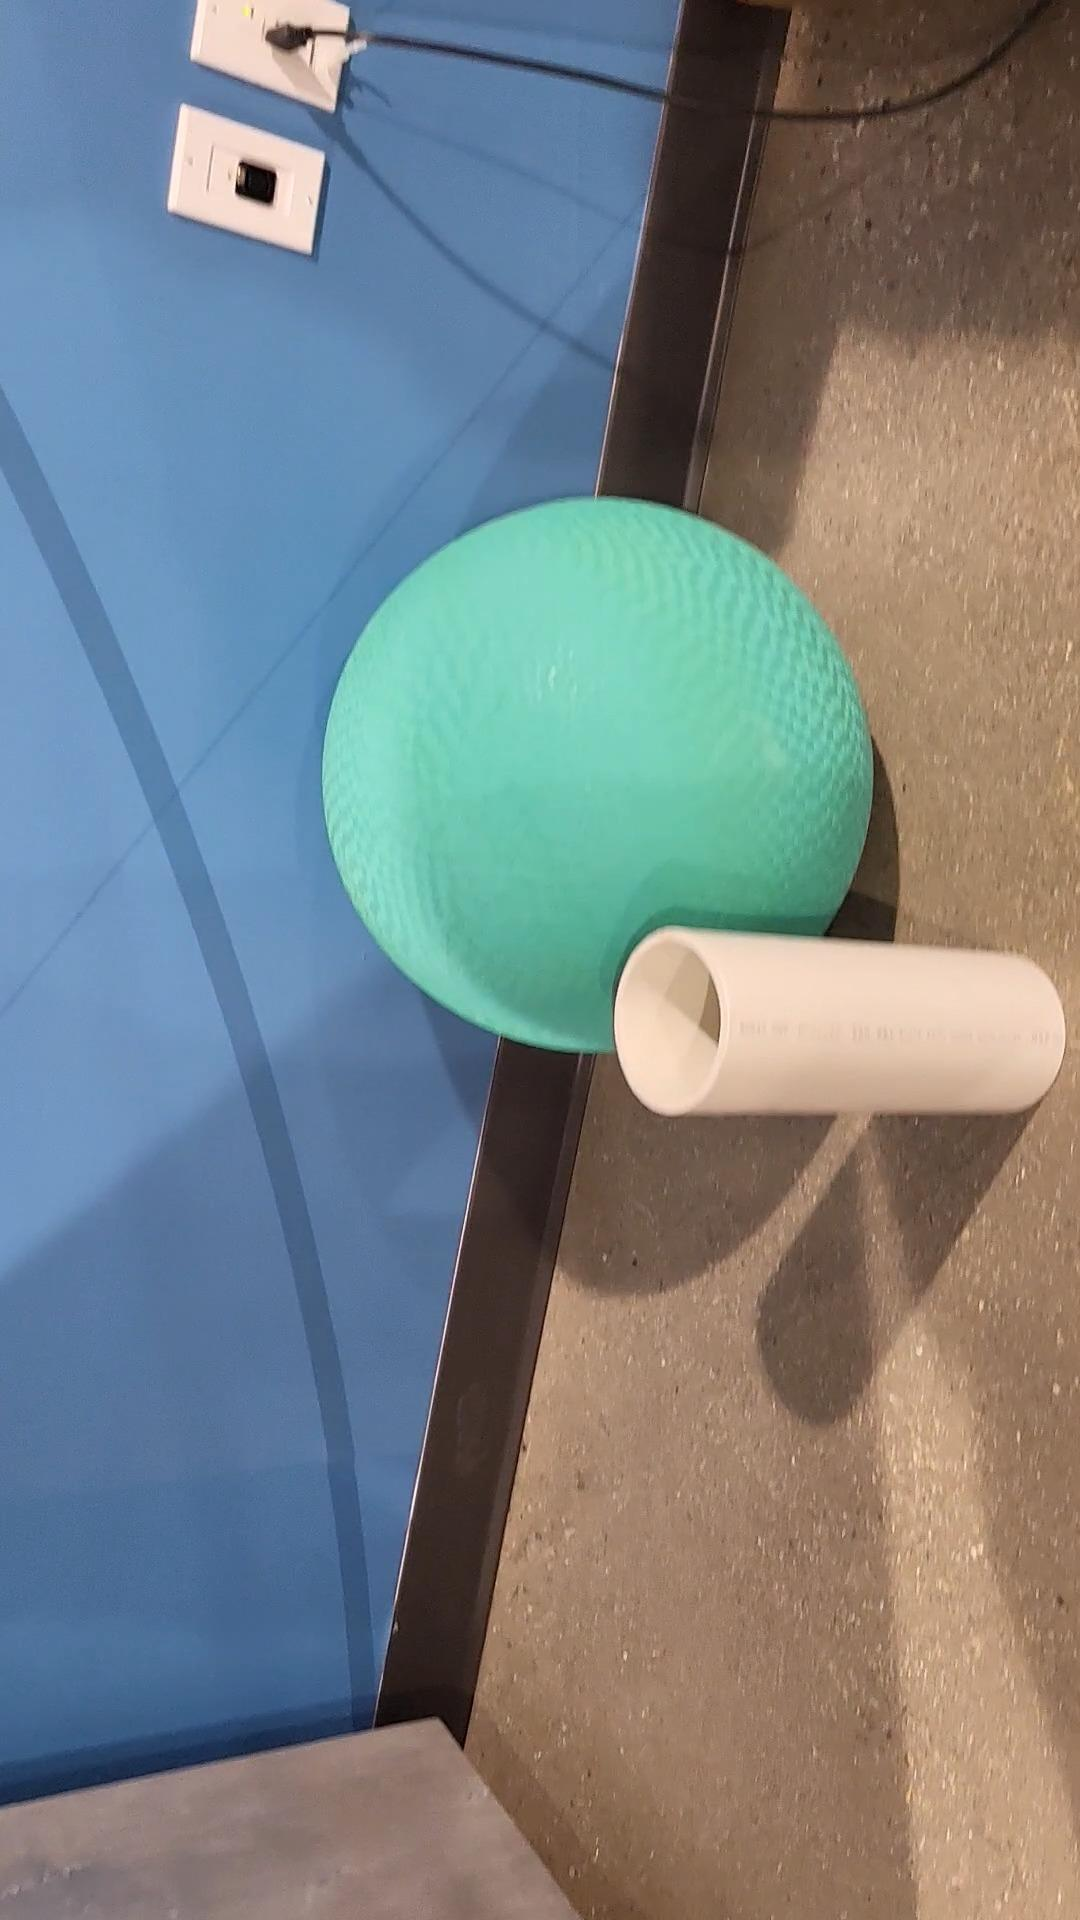algae: (319, 498, 873, 1052)
coral: (615, 927, 1068, 1116)
